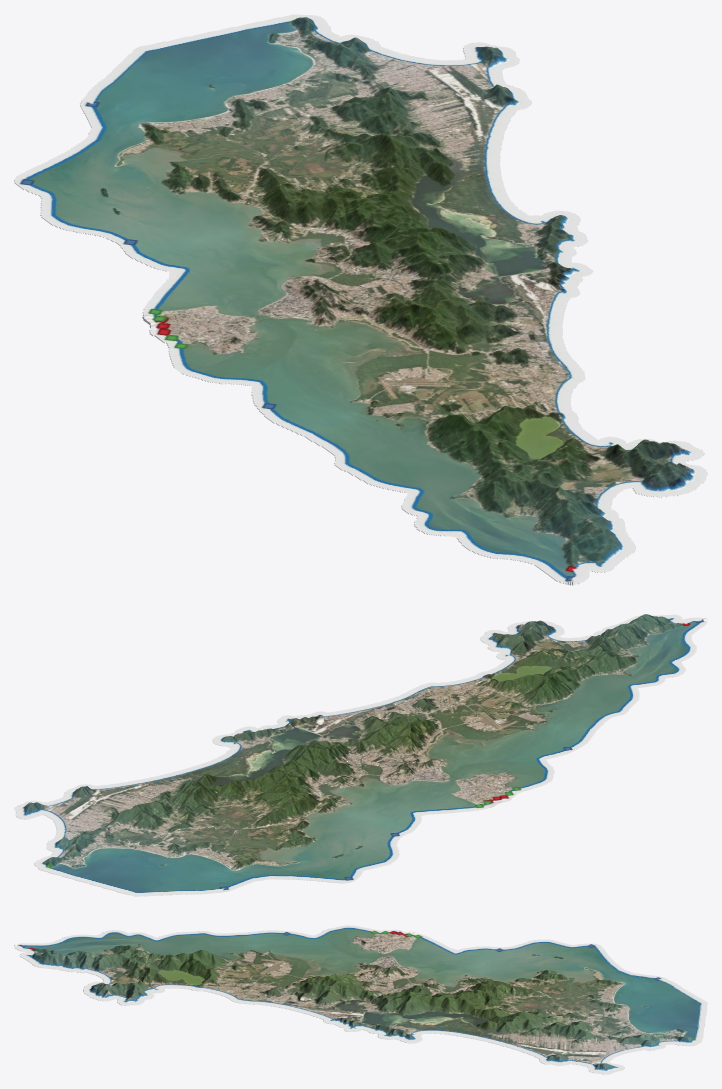
3 views of the same model, one above another, from view 1: azimuth 30°, elevation 25°; view 2: azimuth 150°, elevation 25°; view 3: azimuth 270°, elevation 25° (orthographic). The views are drawn at different scales.
Size of the model in its own units: 0.9983 by 0.0388 by 1.97.
Materials: 1 (1 with a texture image).
